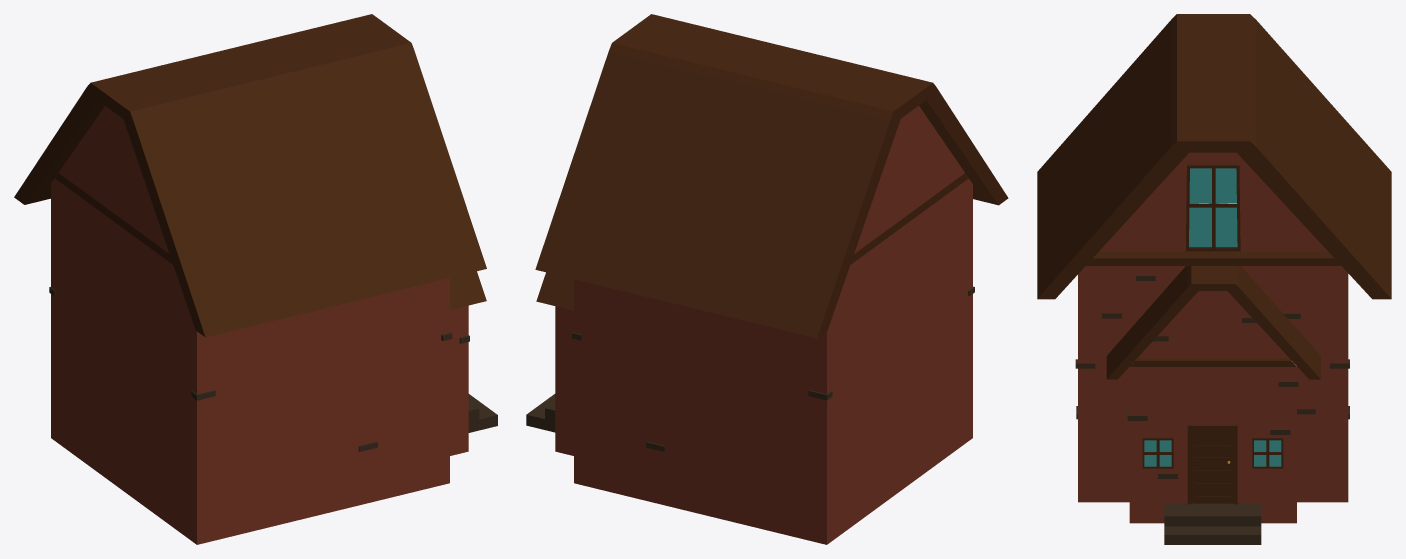
The model's file is Casa02.fbx.
3 renders of one model, left to right at view 1: azimuth 30°, elevation 25°; view 2: azimuth 150°, elevation 25°; view 3: azimuth 270°, elevation 25°, orthographic. The views are drawn at different scales.
Visible parts, largest first — view 1: Plano.003; view 2: Plano.003; view 3: Plano.003.
Boxes of the visible parts, left/top/right/bottom form: Plano.003: left=14, top=14, right=497, bottom=544; Plano.003: left=526, top=14, right=1008, bottom=544; Plano.003: left=1037, top=14, right=1391, bottom=544.
Size of the model in its own units: 3835 by 4035 by 3523.
1 material, 1 textured.
